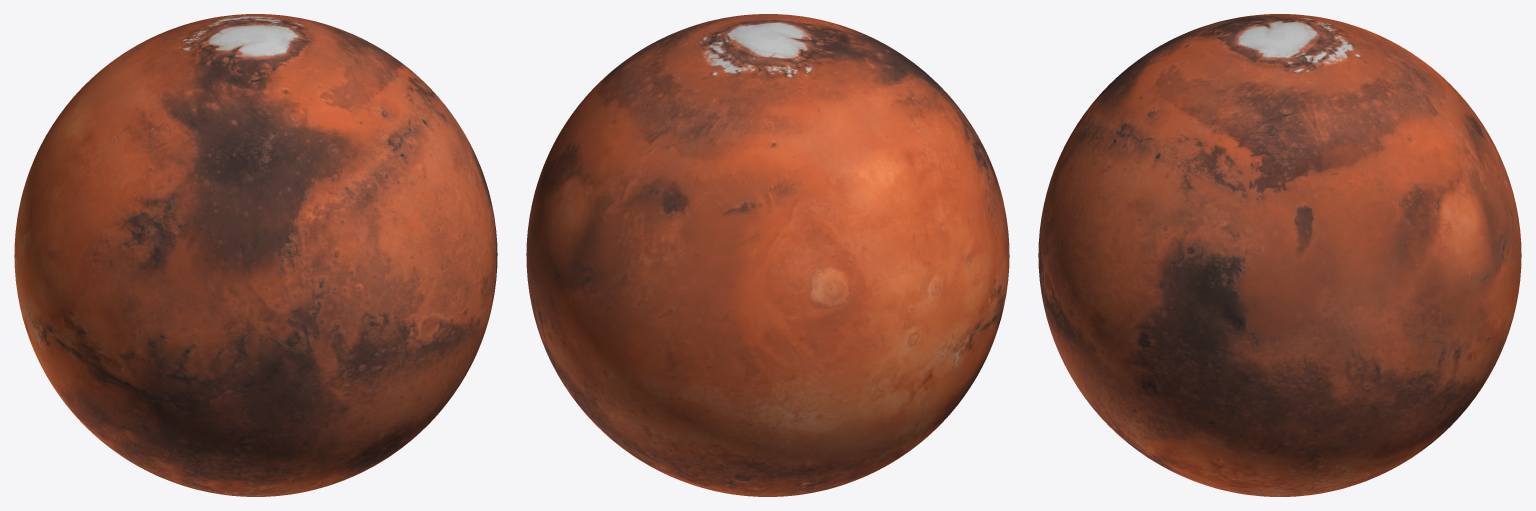
File: mars.glb
3 views of the same model, side by side, from view 1: azimuth 30°, elevation 25°; view 2: azimuth 150°, elevation 25°; view 3: azimuth 270°, elevation 25° (orthographic).
Parts seen in each view (by area): view 1: Surface; view 2: Surface; view 3: Surface.
Part boxes in pixels (box(x1,y1,x2,y2)): Surface: box(14, 14, 497, 496); Surface: box(526, 14, 1009, 496); Surface: box(1038, 14, 1521, 496).
Size of the model in its own units: 2 by 2 by 2.
1 material, 1 textured.
